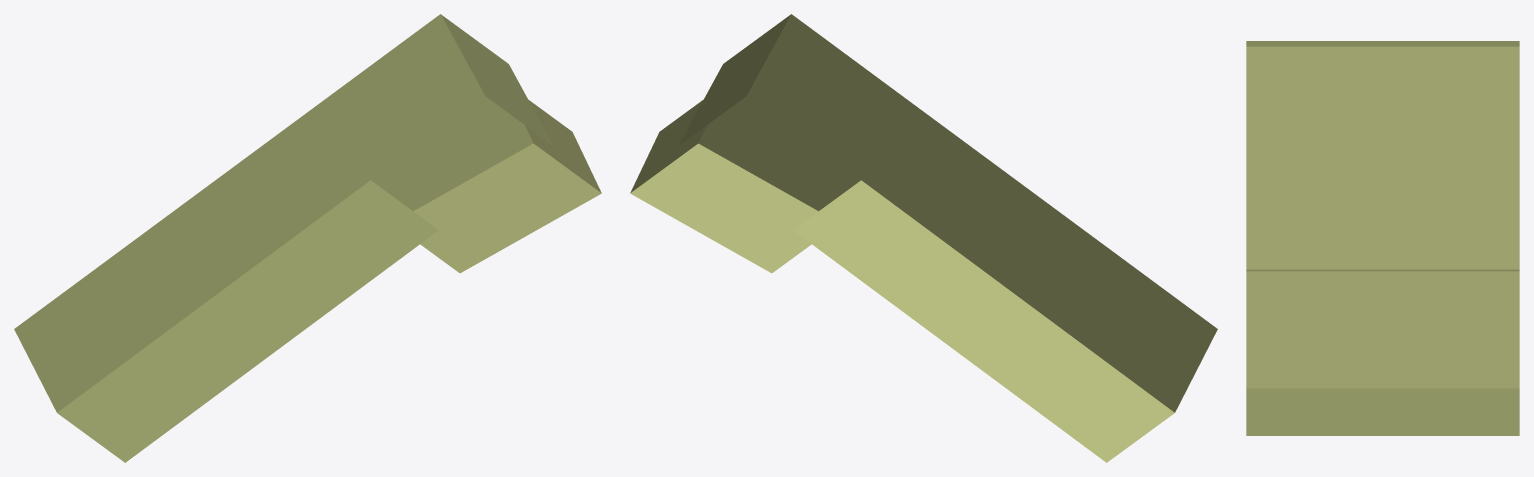
The picture shows the model from 3 angles, left to right: view 1: azimuth 30°, elevation 25°; view 2: azimuth 150°, elevation 25°; view 3: azimuth 270°, elevation 25°; orthographic projection. The views are drawn at different scales.
Visible parts, largest first — view 1: 0_1_0_2_0_2_1_3_3; view 2: 0_1_0_2_0_2_1_3_3; view 3: 0_1_0_2_0_2_1_3_3.
Boxes of the visible parts, x1,y1,x2,y2 form: 0_1_0_2_0_2_1_3_3: (14,14,601,462); 0_1_0_2_0_2_1_3_3: (630,14,1217,462); 0_1_0_2_0_2_1_3_3: (1246,41,1519,435).
Bounding box in the file's own units: 26.33 × 14.79 × 6.
